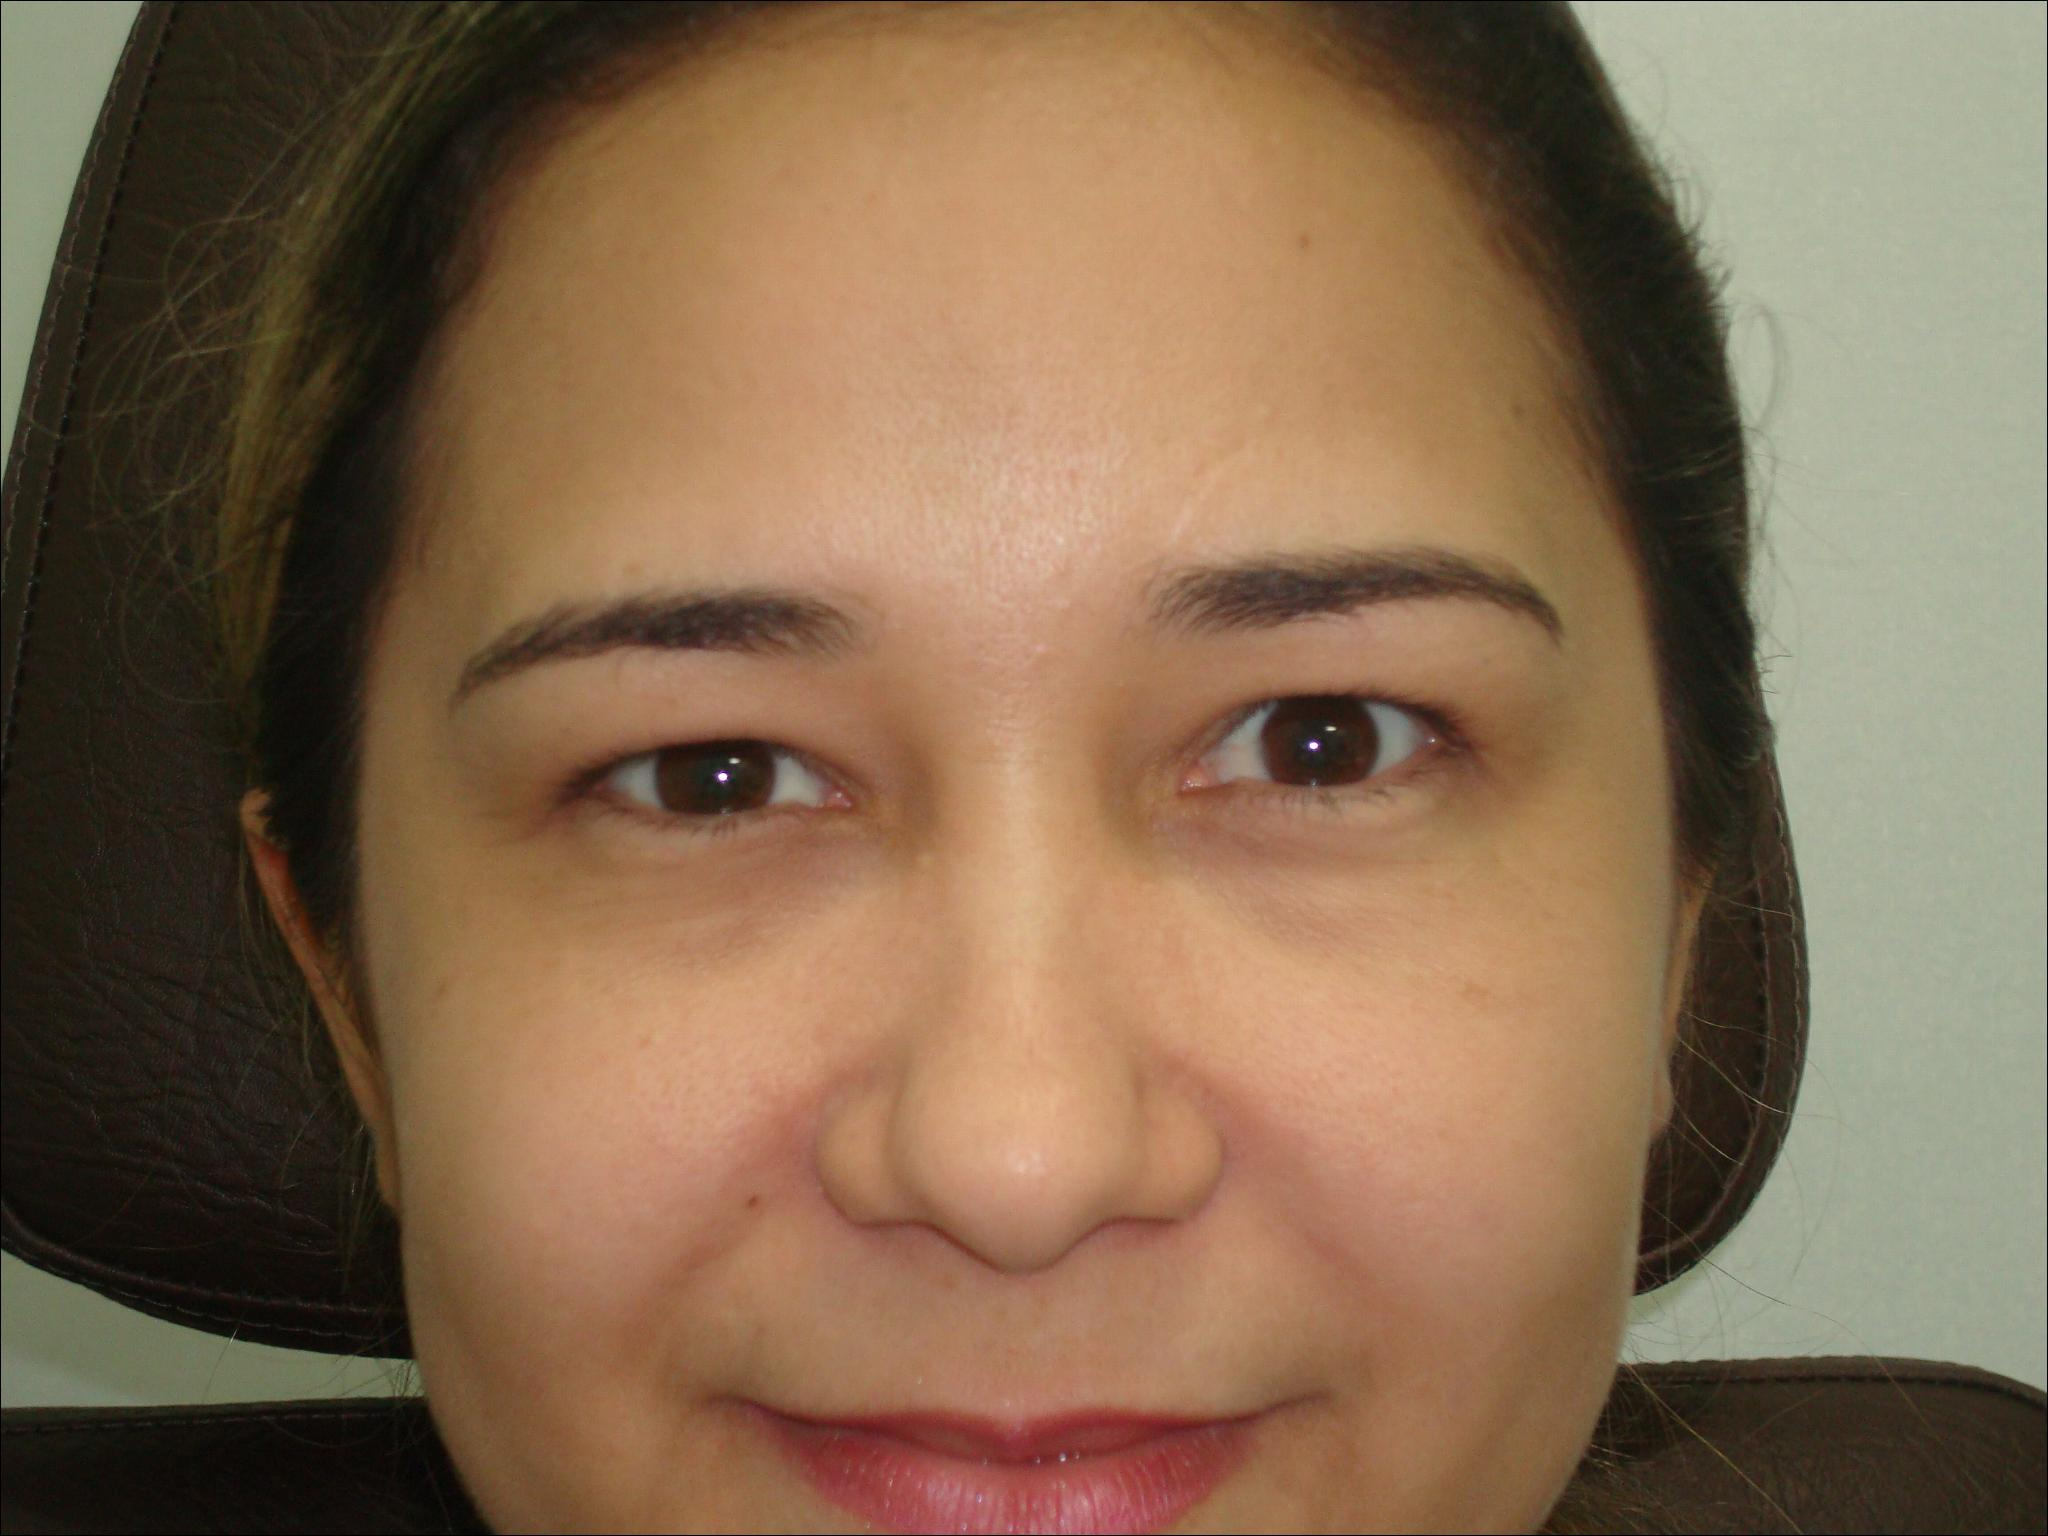flash: (711, 765, 734, 787), (1303, 734, 1324, 757)
limbo: (647, 710, 782, 834), (1253, 679, 1380, 803)
